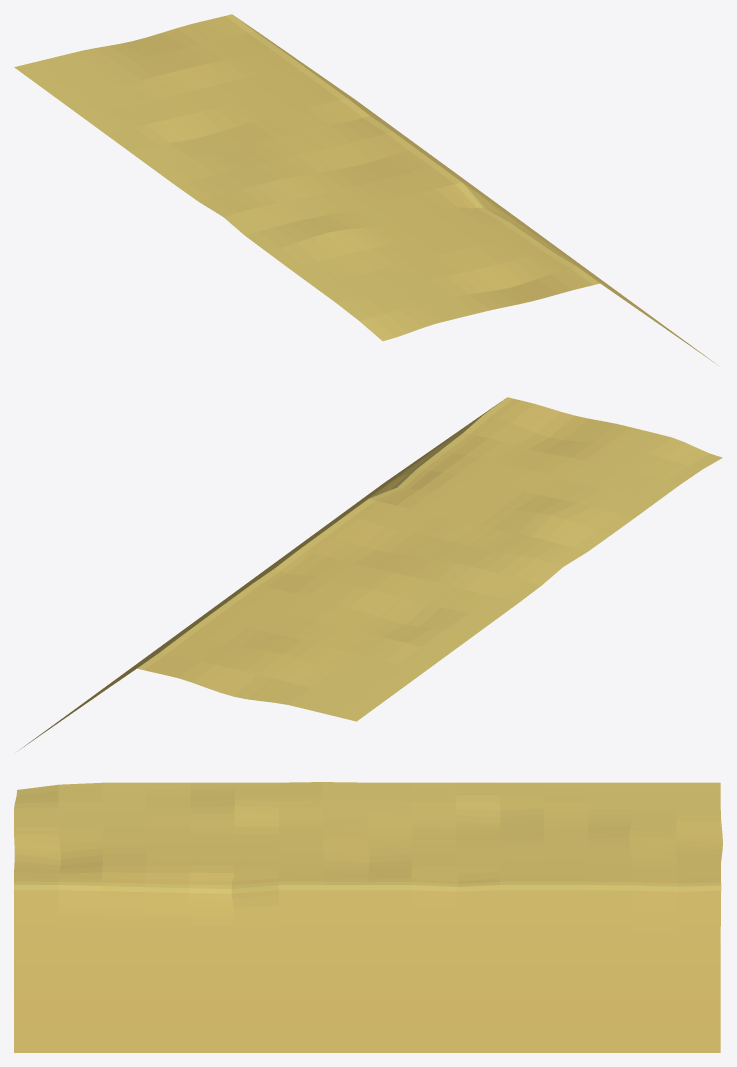
The model's file is SM_Beach.fbx.
3 views of the same model, one above another, from view 1: azimuth 30°, elevation 25°; view 2: azimuth 150°, elevation 25°; view 3: azimuth 270°, elevation 25° (orthographic). The views are drawn at different scales.
Visible parts, largest first — view 1: SM_Beach; view 2: SM_Beach; view 3: SM_Beach.
Boxes of the visible parts, x1,y1,x2,y2 form: SM_Beach: (14,14,718,365); SM_Beach: (20,397,722,749); SM_Beach: (14,782,722,1052).
Bounding box in the file's own units: 12.21 × 22.92 × 4.12.
